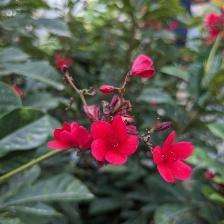jatropha: (90, 114, 141, 165), (152, 131, 197, 185)
